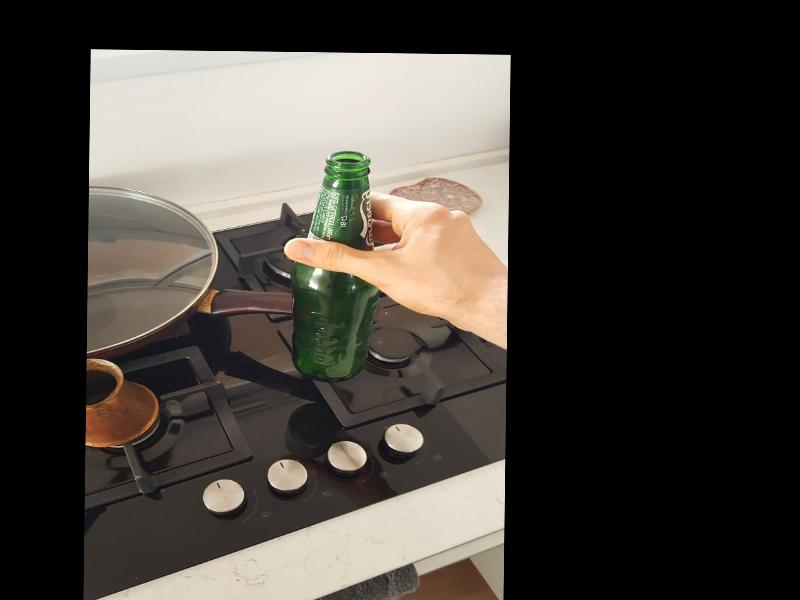Beer: (291, 152, 371, 381)
